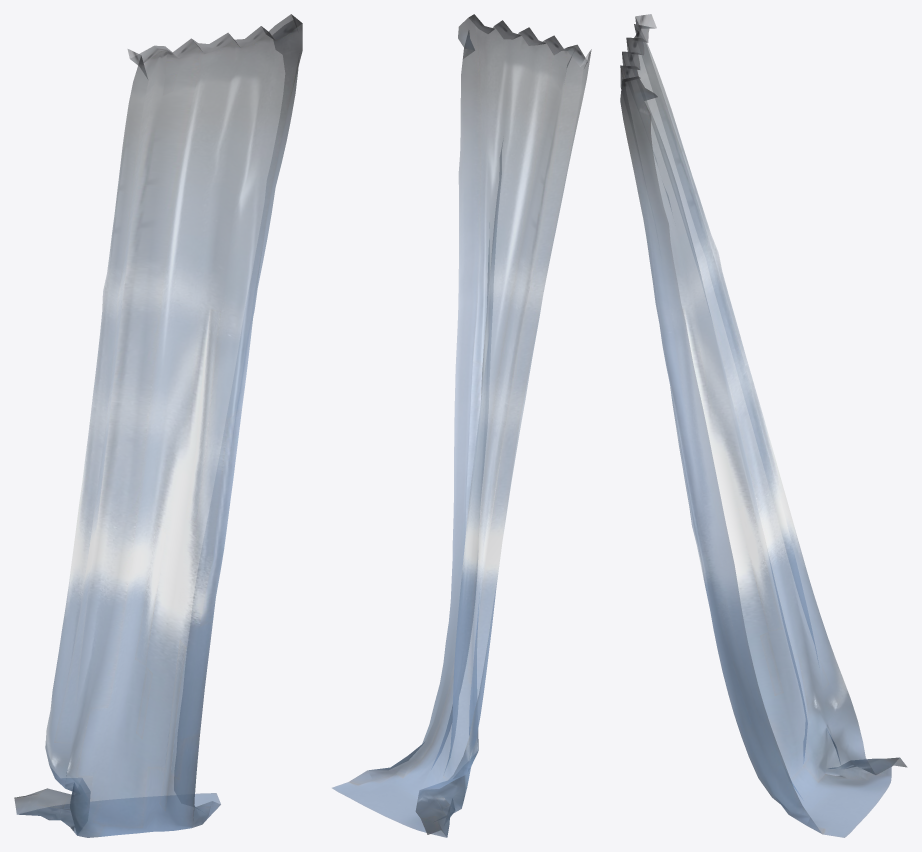
Rendered from curtain.glb.
The picture shows the model from 3 angles, left to right: view 1: azimuth 30°, elevation 25°; view 2: azimuth 150°, elevation 25°; view 3: azimuth 270°, elevation 25°; orthographic projection. The views are drawn at different scales.
Parts seen in each view (by area): view 1: curtainanimated; view 2: curtainanimated; view 3: curtainanimated.
Part boxes in pixels (x1,y1,x2,y2): curtainanimated: [14, 14, 302, 837]; curtainanimated: [332, 14, 591, 837]; curtainanimated: [620, 14, 907, 837].
Size of the model in its own units: 9.91 by 40.87 by 14.36.
1 material, 1 textured.
